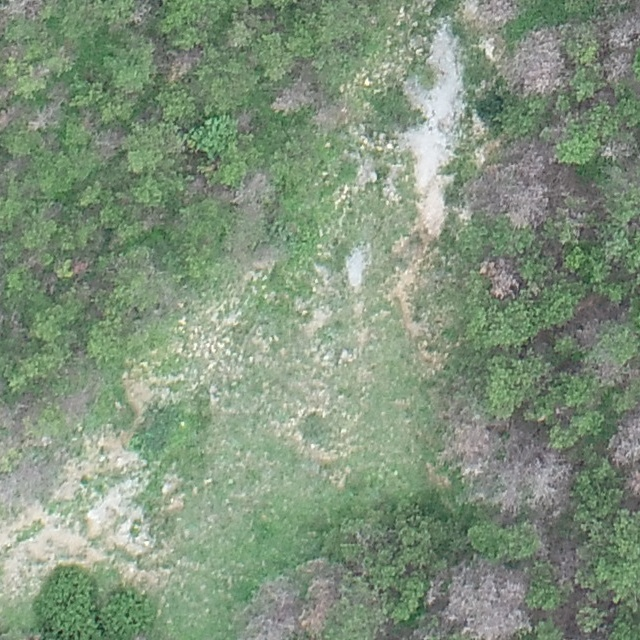unhealthy: (463, 142, 565, 226), (445, 555, 535, 640), (499, 28, 569, 98), (238, 580, 302, 639), (528, 449, 574, 518), (441, 414, 498, 469), (302, 565, 341, 635), (1, 457, 49, 506), (495, 450, 528, 521), (539, 533, 581, 586), (271, 70, 317, 116), (605, 408, 638, 471), (479, 256, 520, 300), (1, 395, 39, 437), (601, 10, 639, 50), (467, 0, 521, 28), (234, 169, 273, 206), (164, 46, 204, 82), (91, 126, 125, 162), (28, 101, 65, 131), (58, 387, 94, 417), (601, 49, 633, 82), (600, 137, 634, 162), (127, 1, 157, 29), (312, 103, 344, 129), (2, 0, 43, 20), (184, 175, 207, 201), (623, 469, 640, 503), (0, 104, 20, 132), (235, 108, 257, 132), (70, 255, 93, 276), (0, 83, 12, 105)
